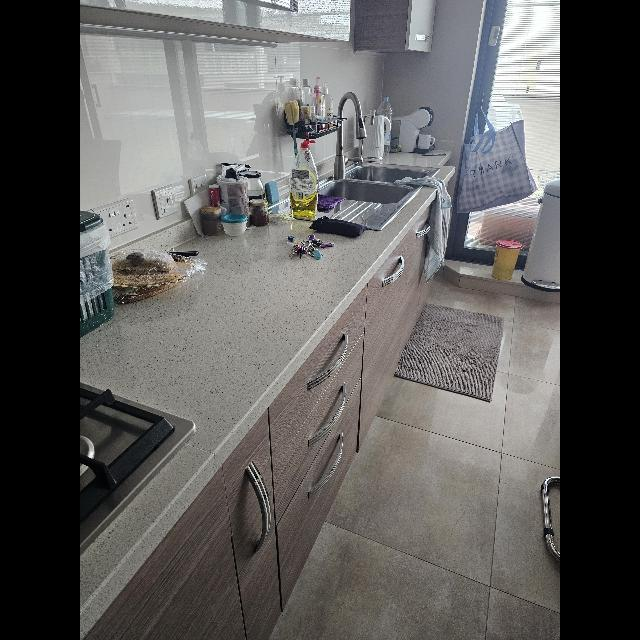Keys: (286, 233, 328, 259)
